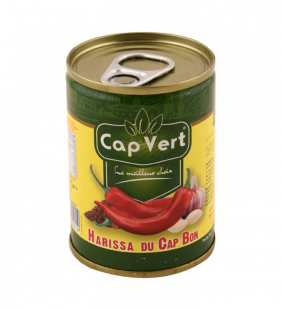CAP VERT: (60, 27, 222, 283)
